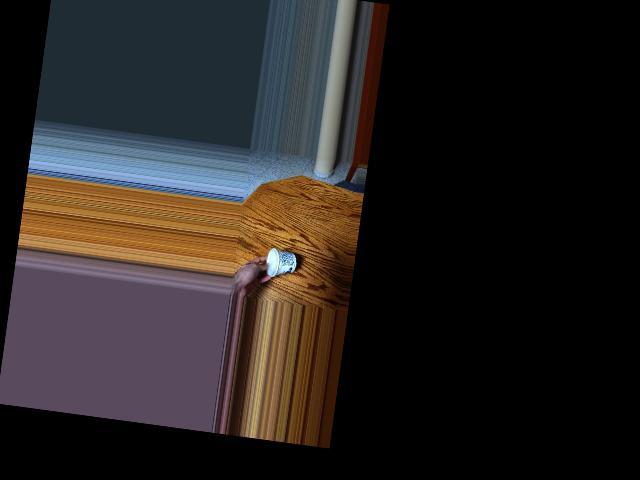cotage: (259, 244, 294, 280)
